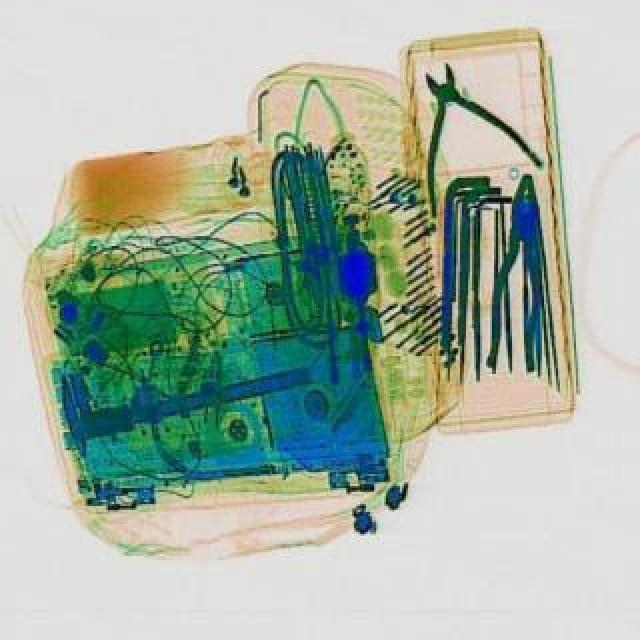wrench: (376, 50, 548, 224), (484, 178, 554, 376)
